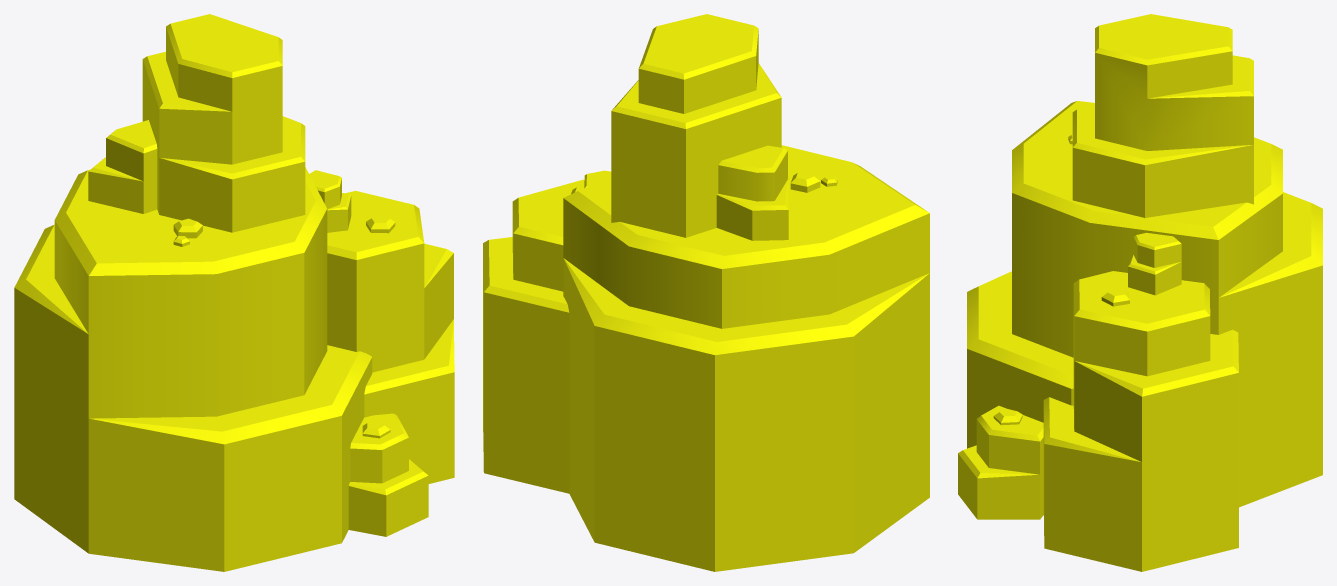
File: kaykit-rock-1-l-color-1.glb
The picture shows the model from 3 angles, left to right: view 1: azimuth 30°, elevation 25°; view 2: azimuth 150°, elevation 25°; view 3: azimuth 270°, elevation 25°; orthographic projection. The views are drawn at different scales.
Parts seen in each view (by area): view 1: Rock_1_L_Color1; view 2: Rock_1_L_Color1; view 3: Rock_1_L_Color1.
Part boxes in pixels (x1=…): Rock_1_L_Color1: x1=14, y1=14, x2=454, y2=571; Rock_1_L_Color1: x1=483, y1=14, x2=929, y2=571; Rock_1_L_Color1: x1=958, y1=14, x2=1322, y2=571.
Bounding box in the file's own units: 3.29 × 3.4 × 2.62.
